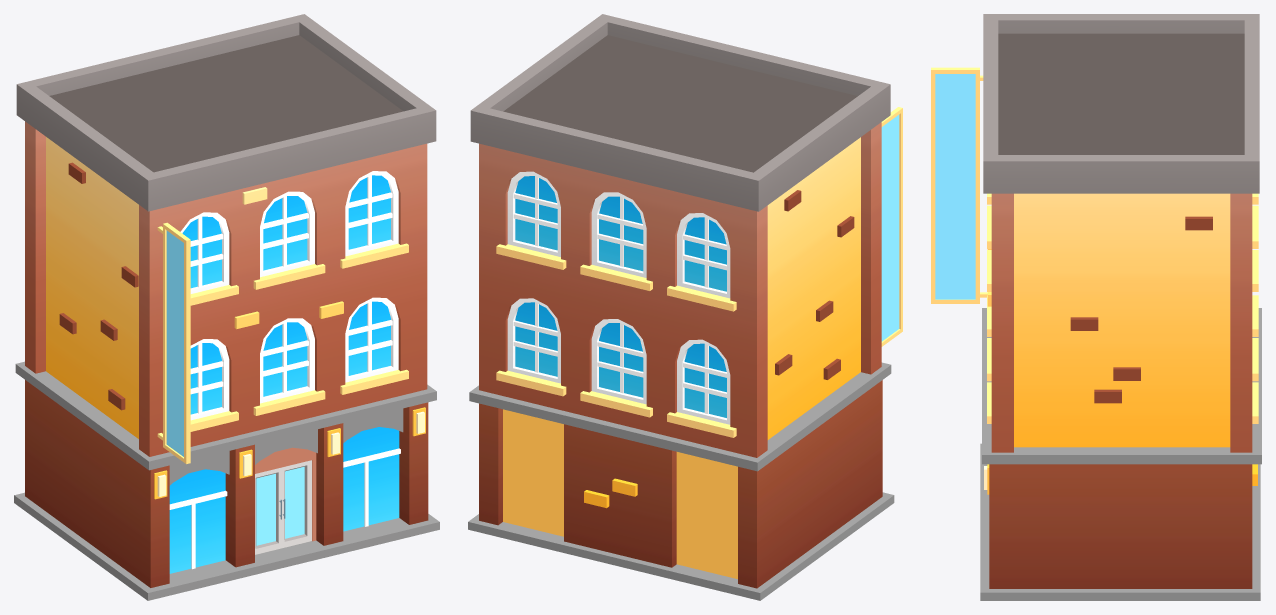
The model's file is city2-building-hotel-01.glb.
3 renders of one model, left to right at view 1: azimuth 30°, elevation 25°; view 2: azimuth 150°, elevation 25°; view 3: azimuth 270°, elevation 25°, orthographic. The views are drawn at different scales.
Parts seen in each view (by area): view 1: Building_Hotel_01; view 2: Building_Hotel_01; view 3: Building_Hotel_01.
Part boxes in pixels (bbox=[...]): Building_Hotel_01: bbox=[14, 14, 439, 600]; Building_Hotel_01: bbox=[468, 14, 902, 600]; Building_Hotel_01: bbox=[931, 14, 1261, 600].
Size of the model in its own units: 8.22 by 11.26 by 7.7.
Materials: 1 (1 with a texture image).
